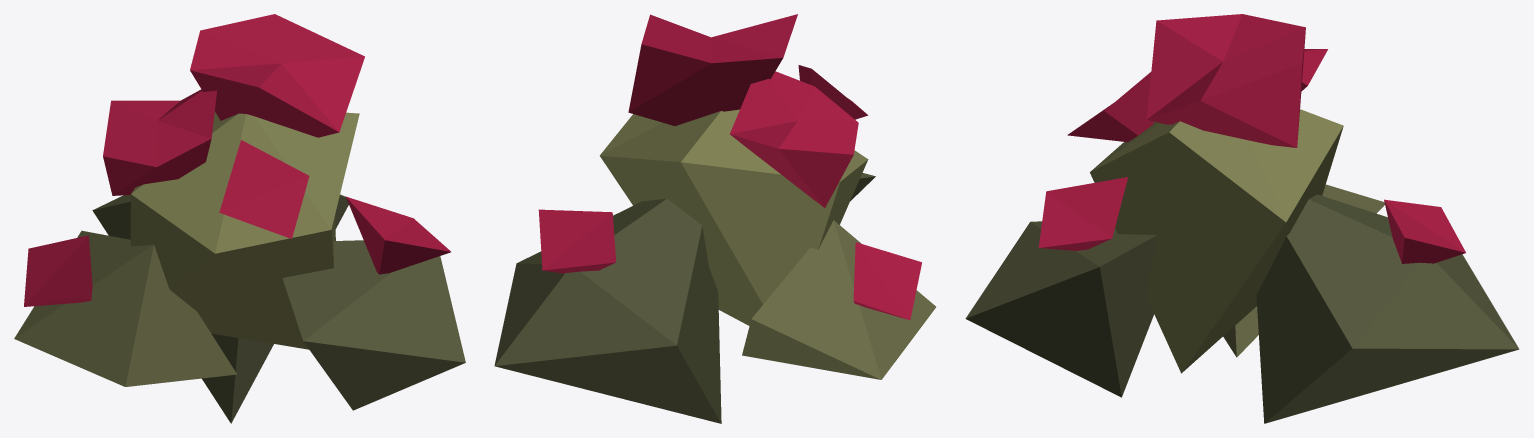
The model's file is env_flowers3.gltf.
The picture shows the model from 3 angles, left to right: view 1: azimuth 30°, elevation 25°; view 2: azimuth 150°, elevation 25°; view 3: azimuth 270°, elevation 25°; orthographic projection. The views are drawn at different scales.
Visible parts, largest first — view 1: env_flowers3; view 2: env_flowers3; view 3: env_flowers3.
Part boxes in pixels (x1,y1,x2,y2): env_flowers3: (14, 14, 465, 423); env_flowers3: (494, 14, 935, 423); env_flowers3: (965, 14, 1519, 423).
Bounding box in the file's own units: 0.3837 × 0.3855 × 0.4947.
Materials: 1 (1 with a texture image).
